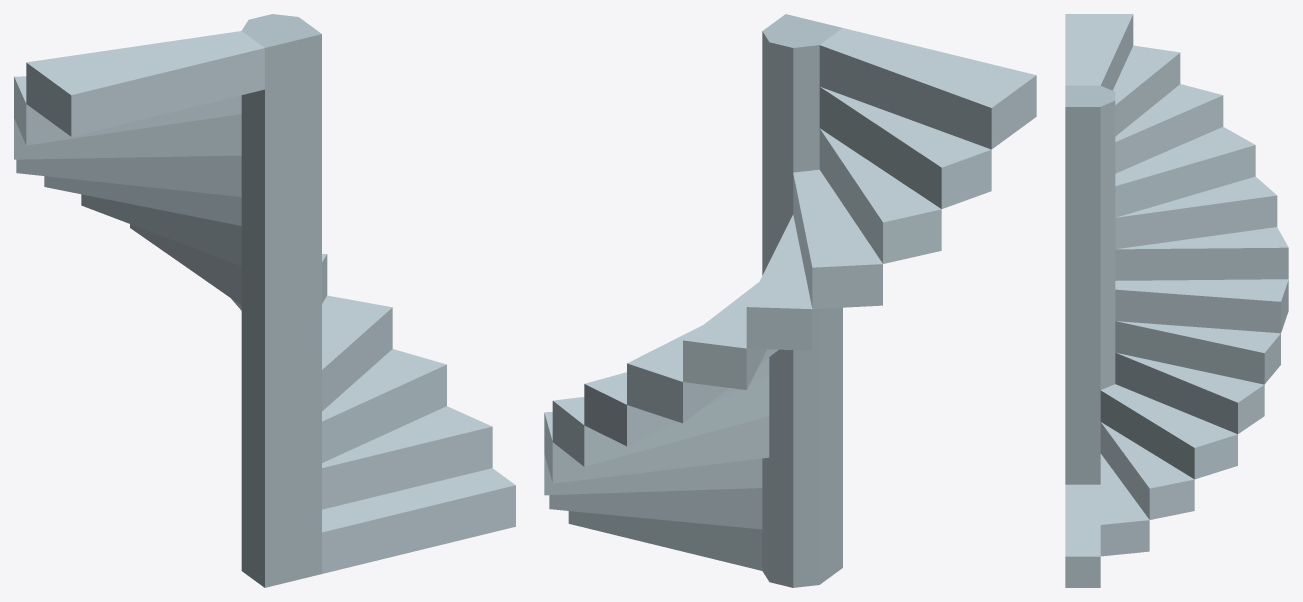
File: stairs_stone_round.glb
3 renders of one model, left to right at view 1: azimuth 30°, elevation 25°; view 2: azimuth 150°, elevation 25°; view 3: azimuth 270°, elevation 25°, orthographic. The views are drawn at different scales.
Parts seen in each view (by area): view 1: stairsStoneRound; view 2: stairsStoneRound; view 3: stairsStoneRound.
Part boxes in pixels (left/top/right/bottom): stairsStoneRound: left=14, top=14, right=515, bottom=587; stairsStoneRound: left=544, top=14, right=1036, bottom=587; stairsStoneRound: left=1065, top=14, right=1288, bottom=587.
Size of the model in its own units: 0.8618 by 1 by 0.4949.
